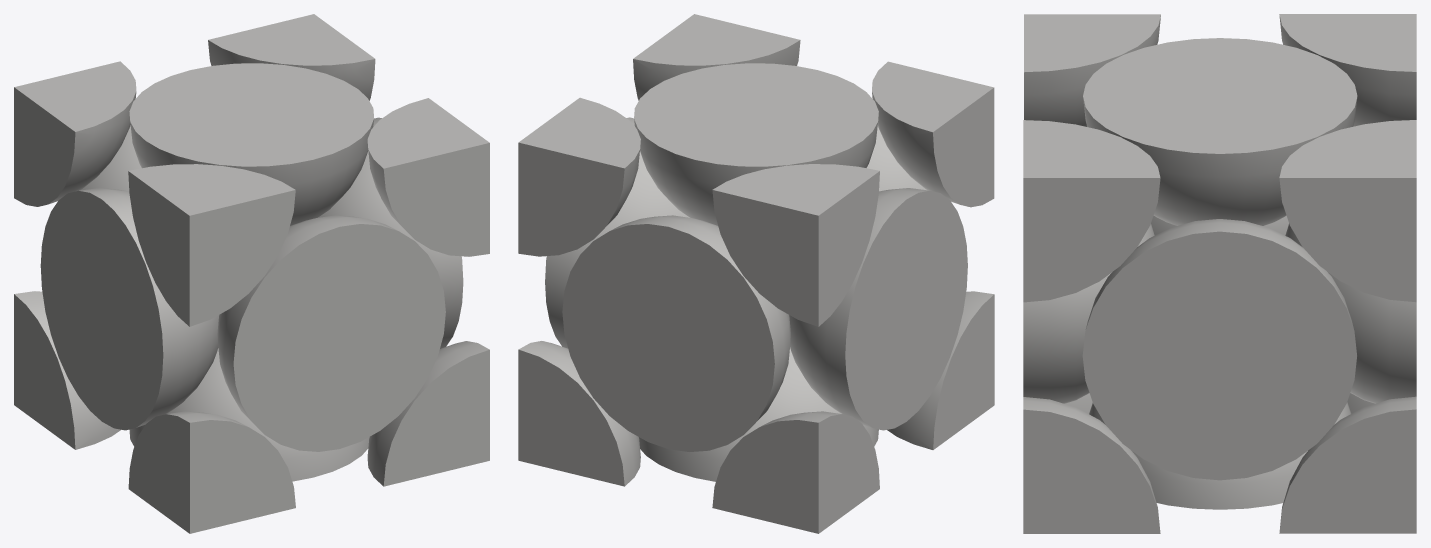
Rendered from mianxin7_2.FBX.
3 renders of one model, left to right at view 1: azimuth 30°, elevation 25°; view 2: azimuth 150°, elevation 25°; view 3: azimuth 270°, elevation 25°, orthographic. The views are drawn at different scales.
Parts seen in each view (by area): view 1: Box009; view 2: Box009; view 3: Box009.
Part boxes in pixels (x1,y1,x2,y2): Box009: (14,14,489,533); Box009: (518,14,994,533); Box009: (1023,14,1416,533).
Size of the model in its own units: 56.51 by 57.25 by 57.32.
